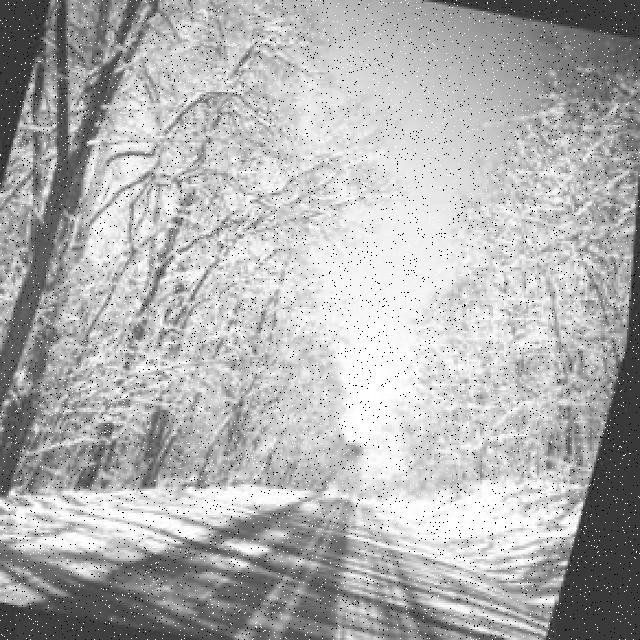clear-road: (17, 493, 557, 640)
